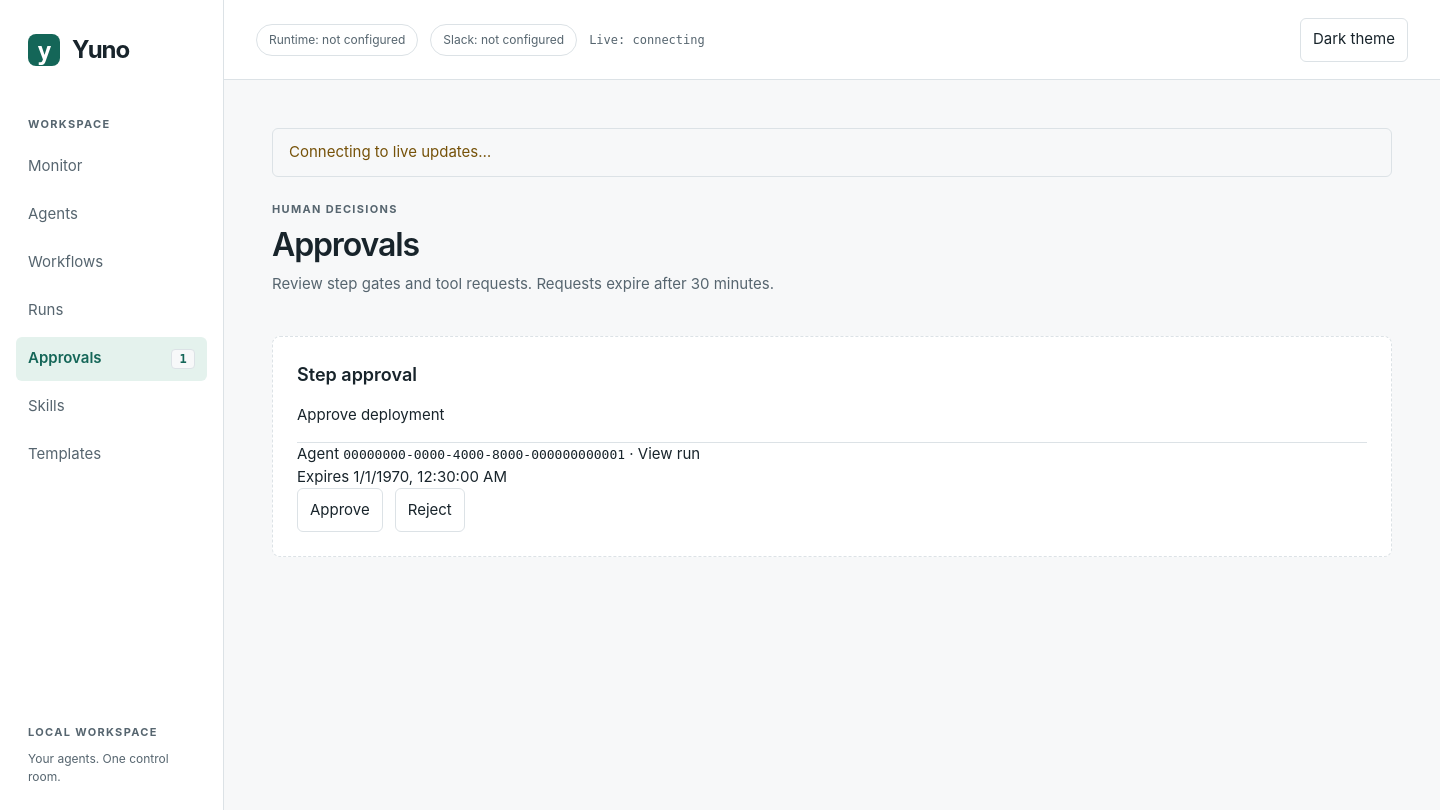
T18 monitoring (R-06, R-16, R-20 through R-25) › R-06 approving from the inbox posts the decision and resumes the waiting run
The width and height of the screenshot is (1440, 810).
expect the text "Approve deployment" is shown: met, box [297,388,1367,443]
What coordinates should you click on to do the following:
click the button "Approve"
I would click on:
 (340, 510)
Its box is [297,488,383,532].
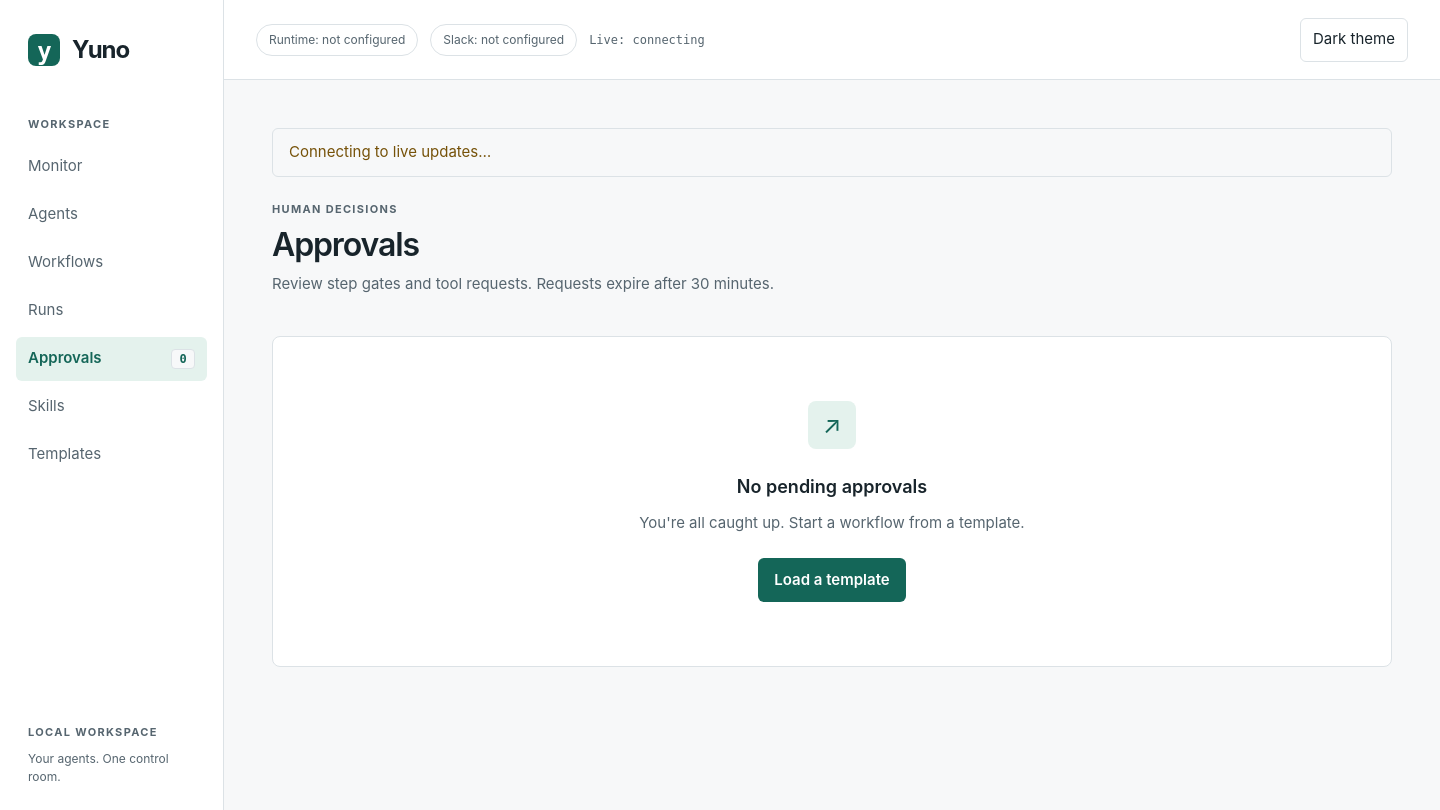
expect the button "Approve" is gone: met
